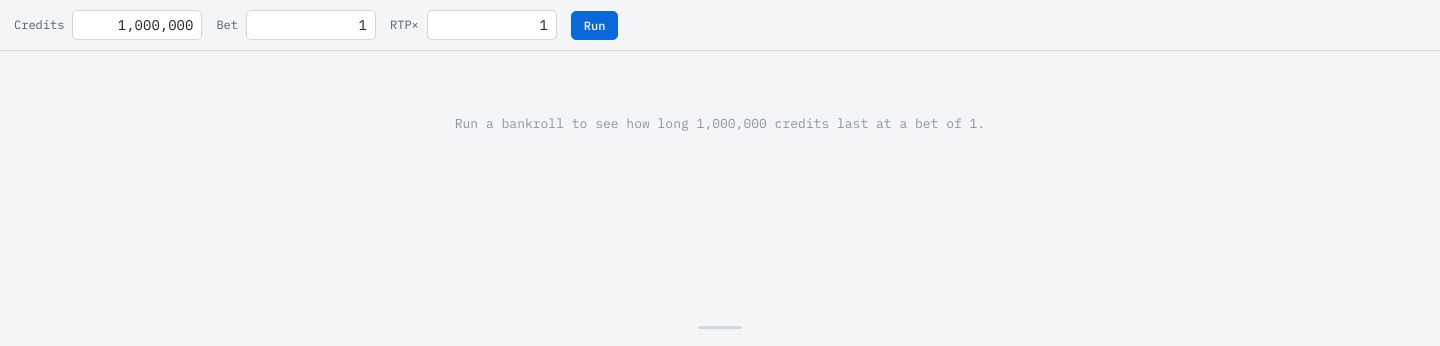
BankrollSim fields › reverts an unreadable entry on blur
Replace the text in the field labelled "Bet" with "abc" at (311, 25), box [246,10,376,40]
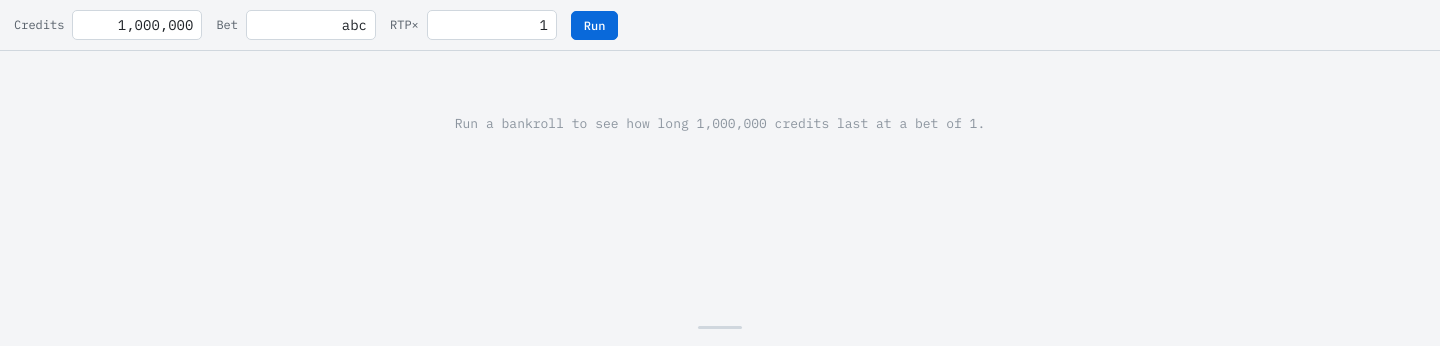
Leave the field labelled "Bet", box [246,10,376,40]
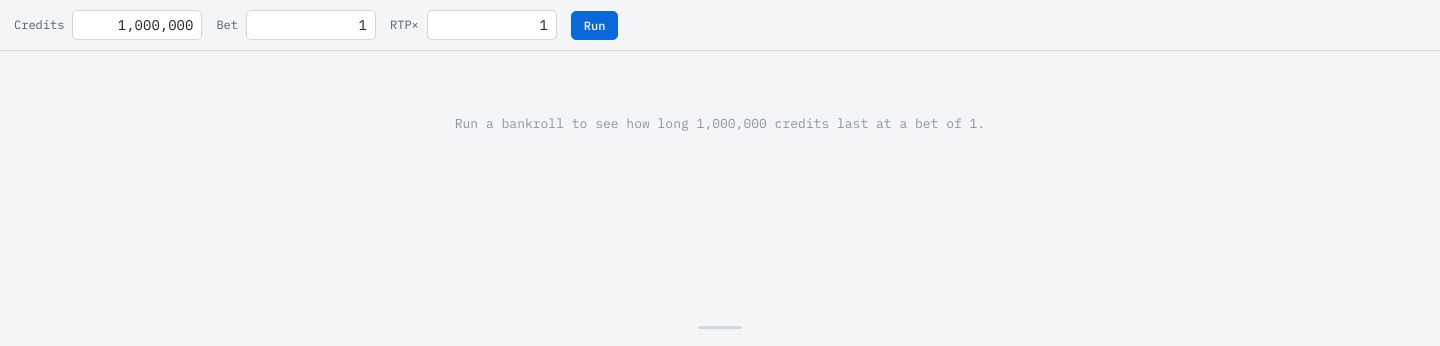
Now the field labelled "Bet" holds "1", box [246,10,376,40]
